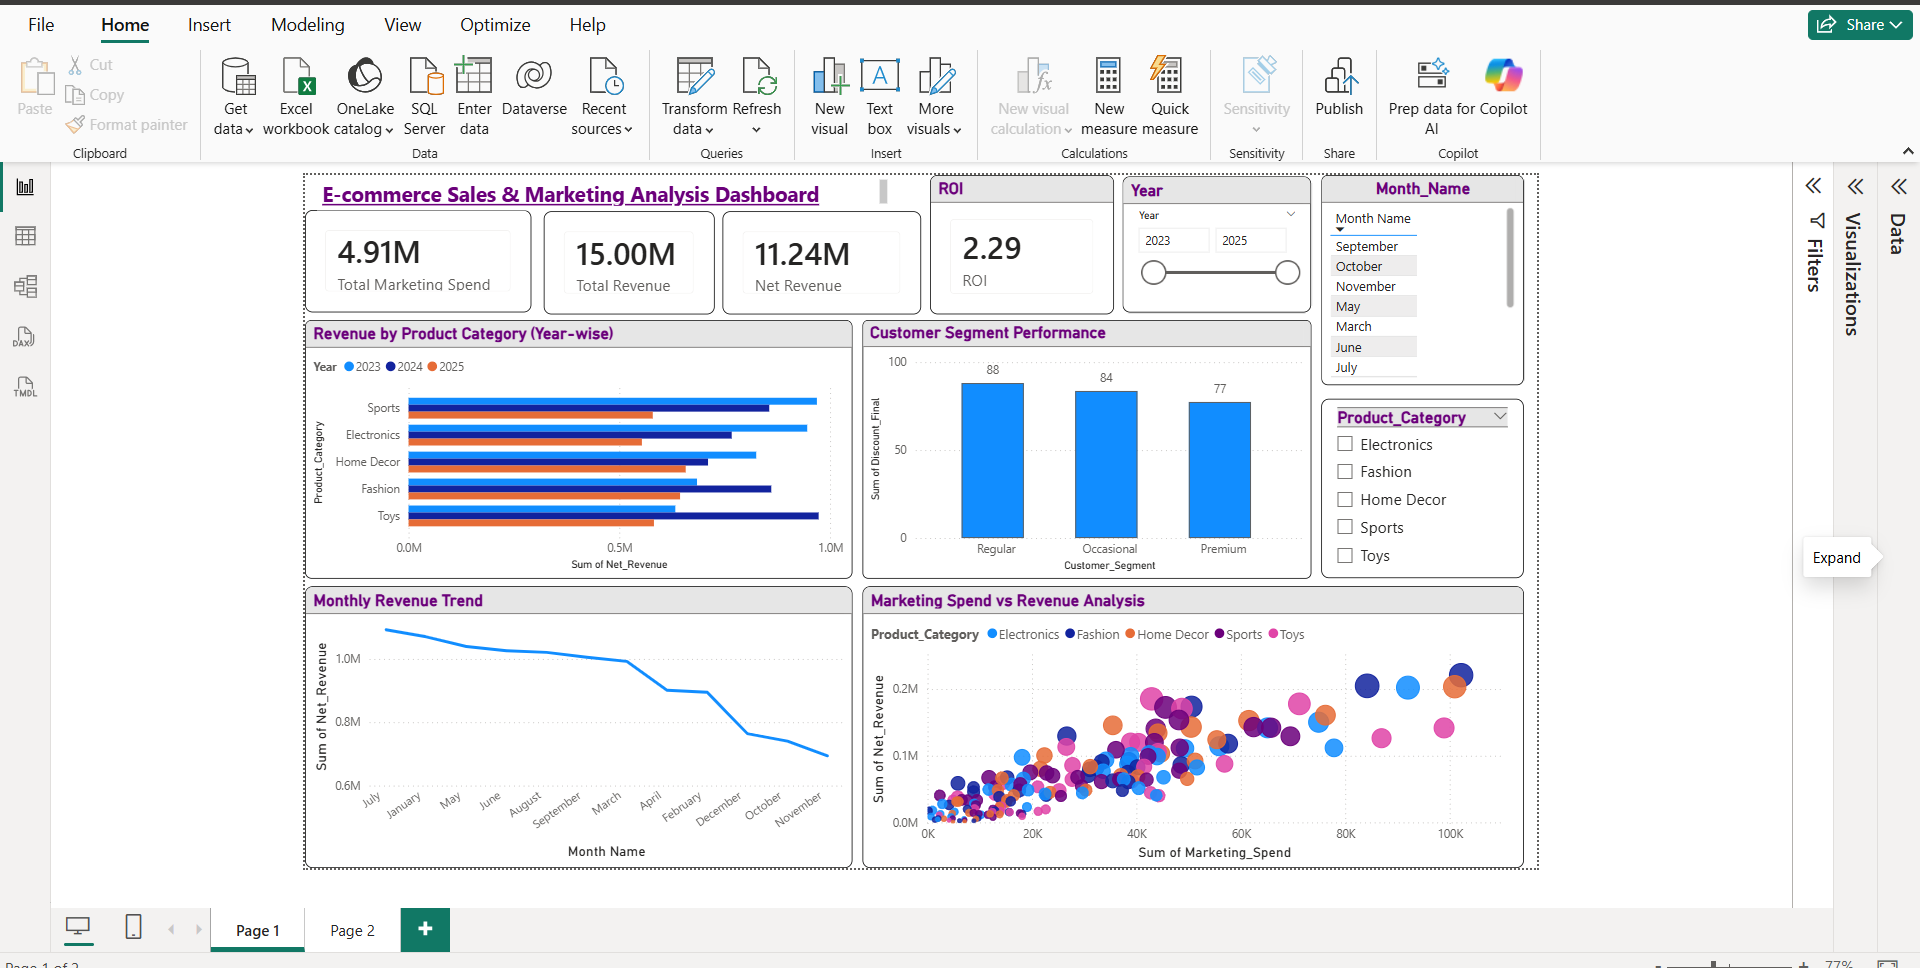

The page's visual inventory and layout, read from the dashboard file:
{"tool":"powerbi","page":{"name":"Page 1","canvas":[1280,720],"ordinal":0},"visuals":[{"type":"cardVisual","fields":{"Data":["Ecommerce_Sales_Prediction_Data.Total Revenue"]},"box":[247.5,37.5,177.5,107.5],"z":0},{"type":"cardVisual","fields":{"Data":["Ecommerce_Sales_Prediction_Data.Net Revenue"]},"box":[433.8,37.5,206.2,107.5],"z":1000},{"type":"cardVisual","fields":{"Data":["Ecommerce_Sales_Prediction_Data.Total Marketing Spend"]},"box":[0,36.2,235,106.2],"z":2000},{"type":"cardVisual","title":"ROI","fields":{"Data":["Ecommerce_Sales_Prediction_Data.ROI"]},"box":[648.8,0,191.2,145],"z":3000},{"type":"slicer","title":"Year","fields":{"Values":["Ecommerce_Sales_Prediction_Data.Year"]},"box":[848.8,1.2,196.2,141.2],"z":4000},{"type":"slicer","fields":{"Values":["Ecommerce_Sales_Prediction_Data.Product_Category"]},"box":[1056.2,232.5,210,186.2],"z":5000},{"type":"clusteredBarChart","title":"Revenue by Product Category (Year-wise)","fields":{"Category":["Ecommerce_Sales_Prediction_Data.Product_Category"],"Y":["Sum(Ecommerce_Sales_Prediction_Data.Net_Revenue)"],"Series":["Ecommerce_Sales_Prediction_Data.Year"]},"box":[0,150,568.8,268.8],"z":6000},{"type":"lineChart","title":"Monthly Revenue Trend","fields":{"Category":["Ecommerce_Sales_Prediction_Data.Month Name"],"Y":["Sum(Ecommerce_Sales_Prediction_Data.Net_Revenue)"]},"box":[0,427.5,568.8,292.5],"z":7000},{"type":"scatterChart","title":"Marketing Spend vs Revenue Analysis","fields":{"X":["Sum(Ecommerce_Sales_Prediction_Data.Marketing_Spend)"],"Y":["Sum(Ecommerce_Sales_Prediction_Data.Net_Revenue)"],"Size":["Ecommerce_Sales_Prediction_Data.Total Revenue"],"Category":["Ecommerce_Sales_Prediction_Data.Units_Sold"],"Series":["Ecommerce_Sales_Prediction_Data.Product_Category"]},"box":[578.8,427.5,687.5,292.5],"z":8000},{"type":"columnChart","title":"Customer Segment Performance","fields":{"Category":["Ecommerce_Sales_Prediction_Data.Customer_Segment"],"Y":["Sum(Ecommerce_Sales_Prediction_Data.Discount_Final)"]},"box":[578.8,150,466.2,268.8],"z":9000},{"type":"tableEx","title":"Month_Name","fields":{"Values":["Ecommerce_Sales_Prediction_Data.Month Name"]},"box":[1056.2,0,210,218.8],"z":10000},{"type":"textbox","box":[13.3,0,596.7,36.7],"z":11000}]}

Visuals, with their boxes on the page's 1280x720 design canvas (x1, y1, x2, y2). These are canvas units, not pixel positions in the 1920x968 screenshot, which may show the page scaled, cropped or inside an application window:
cardVisual - Ecommerce_Sales_Prediction_Data.Total Revenue: 248/38/425/145
cardVisual - Ecommerce_Sales_Prediction_Data.Net Revenue: 434/38/640/145
cardVisual - Ecommerce_Sales_Prediction_Data.Total Marketing Spend: 0/36/235/142
"ROI" cardVisual: 649/0/840/145
"Year" slicer: 849/1/1045/142
slicer - Ecommerce_Sales_Prediction_Data.Product_Category: 1056/232/1266/419
"Revenue by Product Category (Year-wise)" clusteredBarChart: 0/150/569/419
"Monthly Revenue Trend" lineChart: 0/428/569/720
"Marketing Spend vs Revenue Analysis" scatterChart: 579/428/1266/720
"Customer Segment Performance" columnChart: 579/150/1045/419
"Month_Name" tableEx: 1056/0/1266/219
textbox: 13/0/610/37
